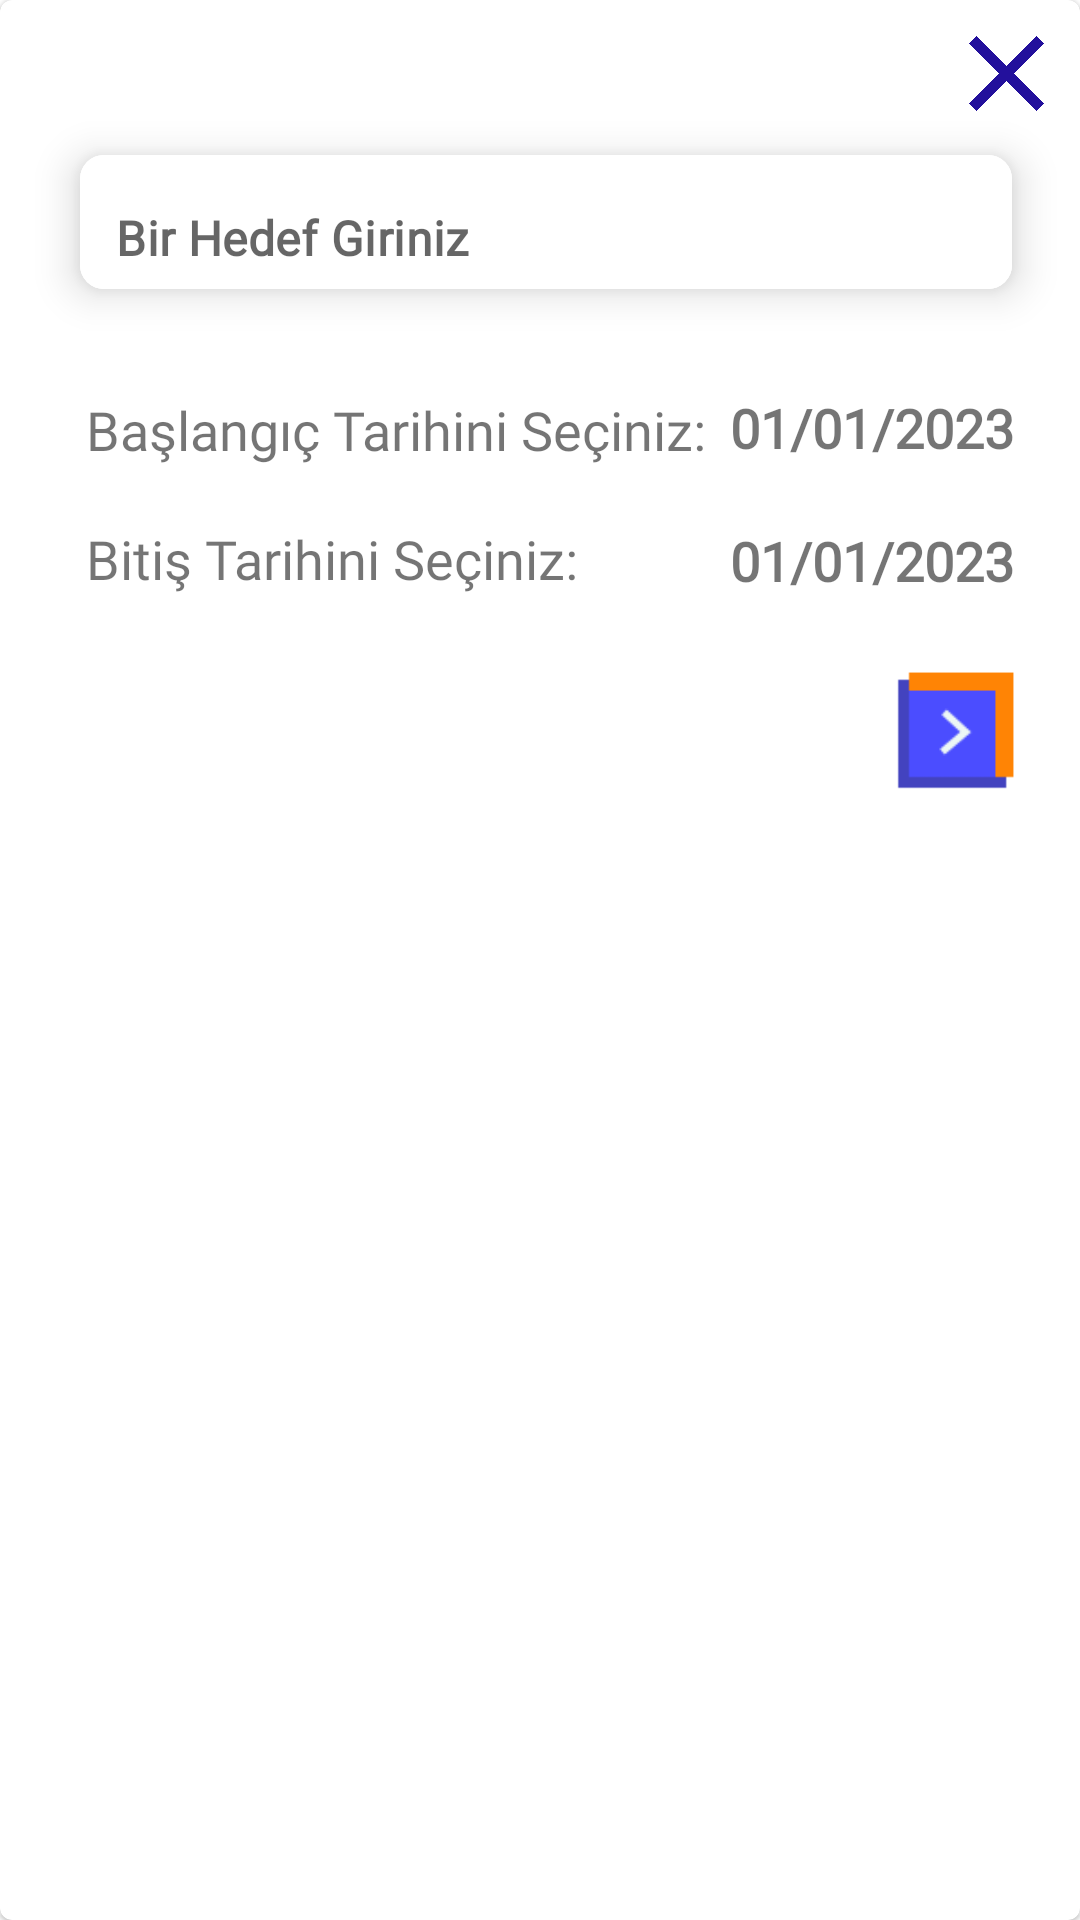

Screen size 1080×1920. Icon name, then its center in pixels as [x,y]:
giris buton: [956,730]
kapatma buton: [1006,73]
